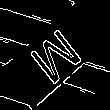M_SE: (23, 21, 87, 89)
